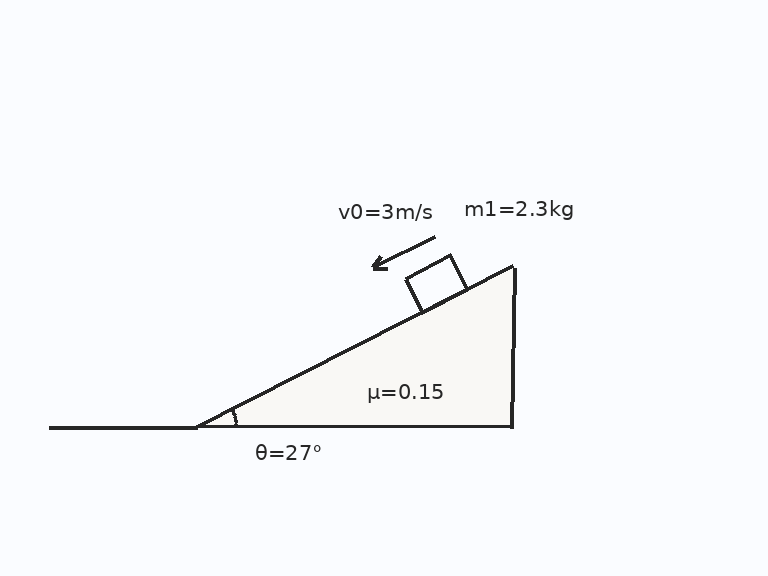block: (402, 254, 469, 314)
ramp: (194, 264, 514, 429)
